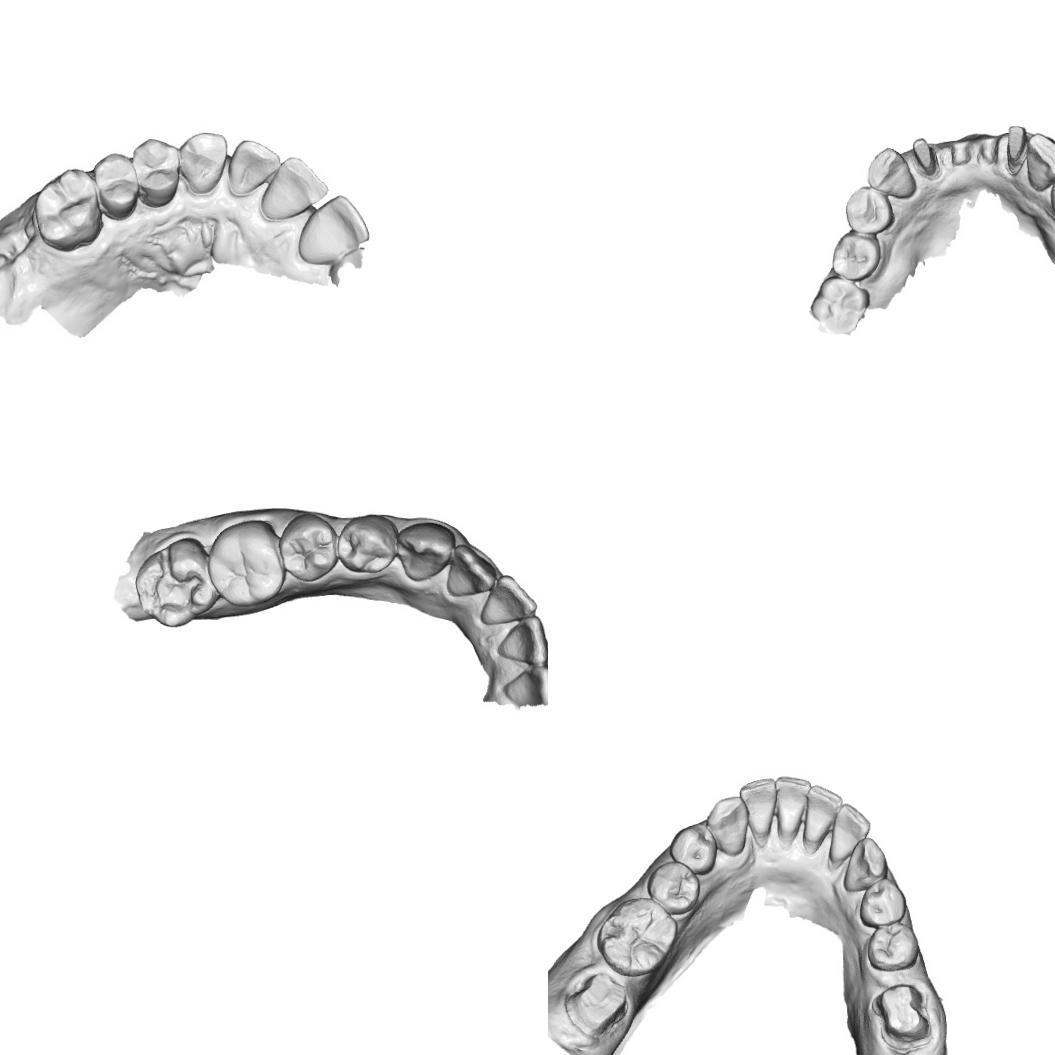canine: (394, 520, 456, 584), (178, 131, 229, 196), (864, 144, 918, 200), (703, 793, 748, 857), (842, 836, 889, 894), (1023, 130, 1055, 196)
crown: (870, 981, 936, 1054), (562, 970, 628, 1038), (907, 135, 940, 178), (1003, 121, 1032, 167)
incisor: (297, 194, 371, 266), (261, 154, 330, 222), (225, 139, 281, 198), (481, 571, 537, 630), (444, 542, 498, 600), (494, 614, 548, 665), (828, 801, 872, 862), (738, 776, 780, 838), (803, 783, 844, 844), (774, 774, 812, 835), (497, 664, 548, 704)
inlay: (147, 545, 208, 622)
molar: (594, 894, 681, 978), (209, 518, 286, 608), (33, 166, 105, 252), (808, 276, 871, 334)
premolar: (278, 511, 340, 584), (336, 512, 399, 576), (131, 136, 181, 208), (642, 860, 702, 916), (92, 150, 138, 221), (666, 820, 718, 876), (855, 876, 908, 929), (864, 922, 921, 971), (842, 186, 895, 236), (830, 232, 882, 282)
